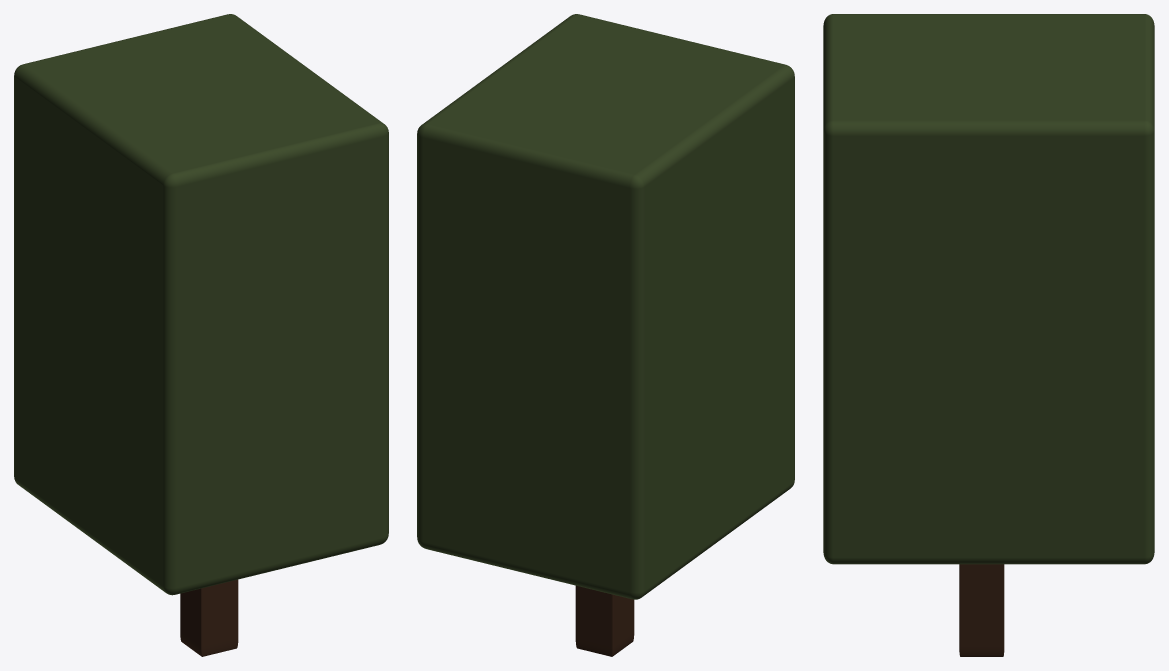
The model's file is treeV2.gltf.
3 renders of one model, left to right at view 1: azimuth 30°, elevation 25°; view 2: azimuth 150°, elevation 25°; view 3: azimuth 270°, elevation 25°, orthographic. The views are drawn at different scales.
Parts seen in each view (by area): view 1: Cube 2, Cube; view 2: Cube 2, Cube; view 3: Cube 2, Cube.
Part boxes in pixels (x1=…): Cube 2: x1=14, y1=14, x2=388, y2=595; Cube: x1=180, y1=579, x2=238, y2=656; Cube 2: x1=417, y1=14, x2=794, y2=599; Cube: x1=575, y1=585, x2=634, y2=656; Cube 2: x1=823, y1=14, x2=1154, y2=564; Cube: x1=959, y1=564, x2=1004, y2=656.
Bounding box in the file's own units: 1.84 × 4.31 × 2.23.
